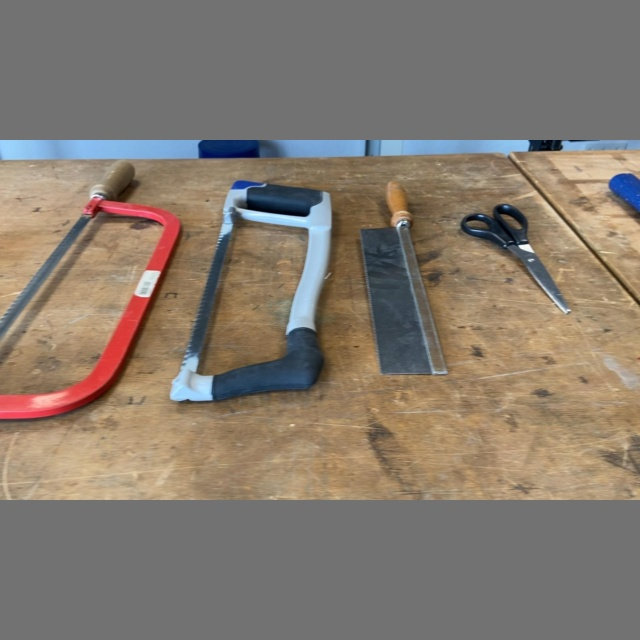scissor: (458, 200, 575, 319)
